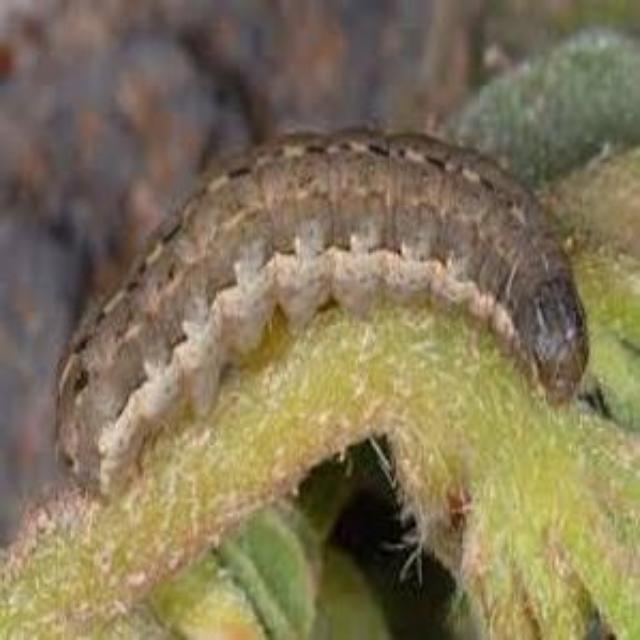Beet armyworm: (26, 80, 614, 530)
